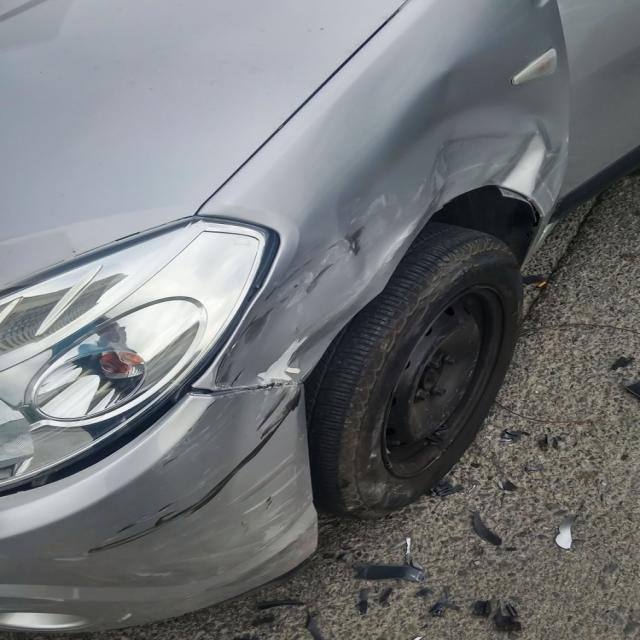dent: (213, 71, 570, 384)
scratch: (65, 388, 314, 607)
